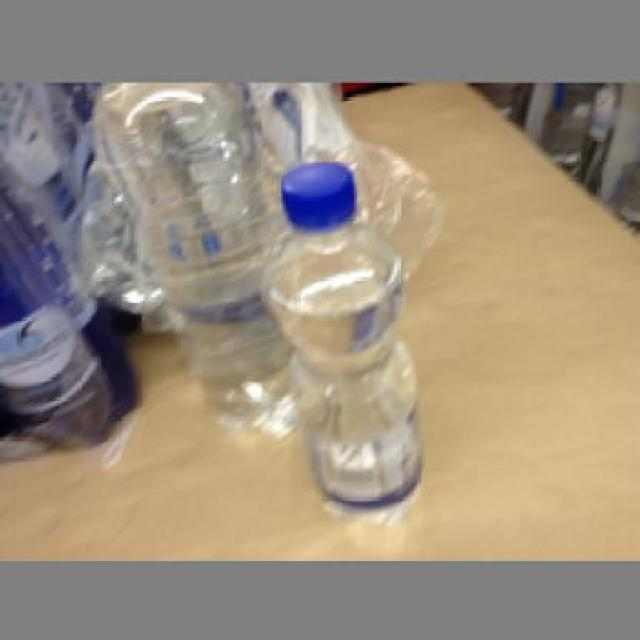Water: (86, 79, 294, 432), (257, 157, 423, 526)
